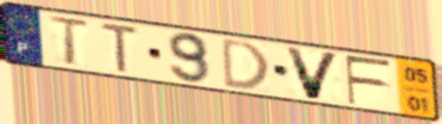9: (165, 31, 213, 86)
D: (220, 35, 272, 91)
F: (342, 54, 394, 107)
T: (45, 14, 92, 68), (99, 20, 142, 75)
V: (281, 44, 343, 102)
